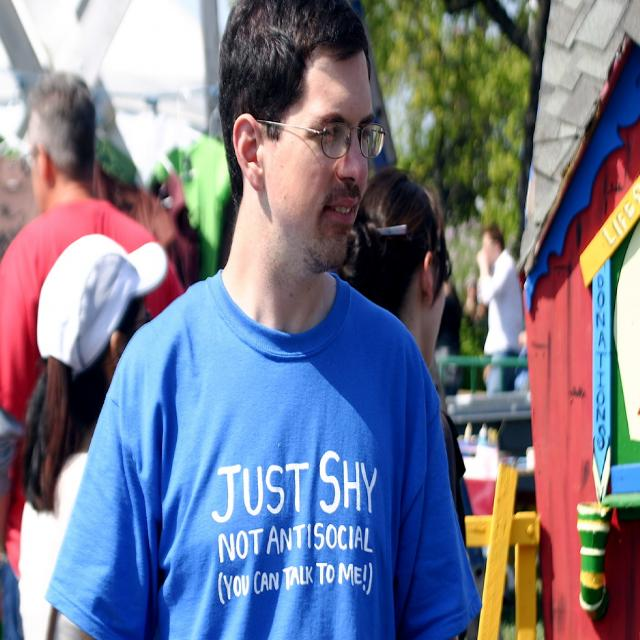Glasses: (255, 118, 387, 161)
